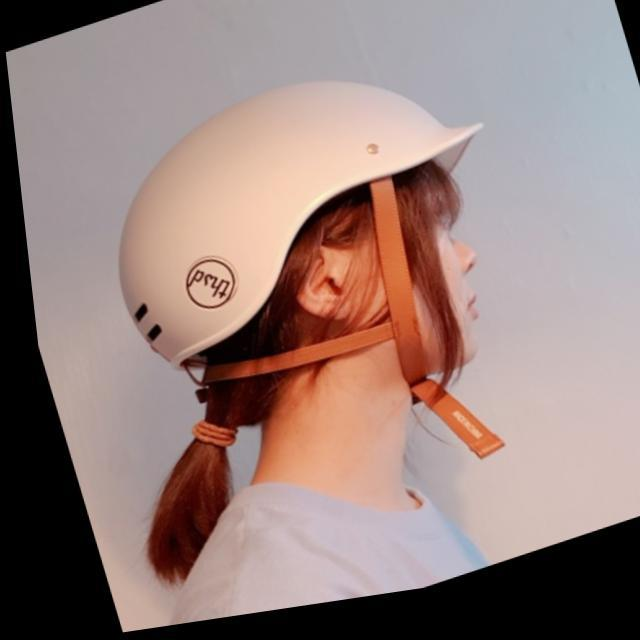Helmet: (106, 69, 505, 402)
